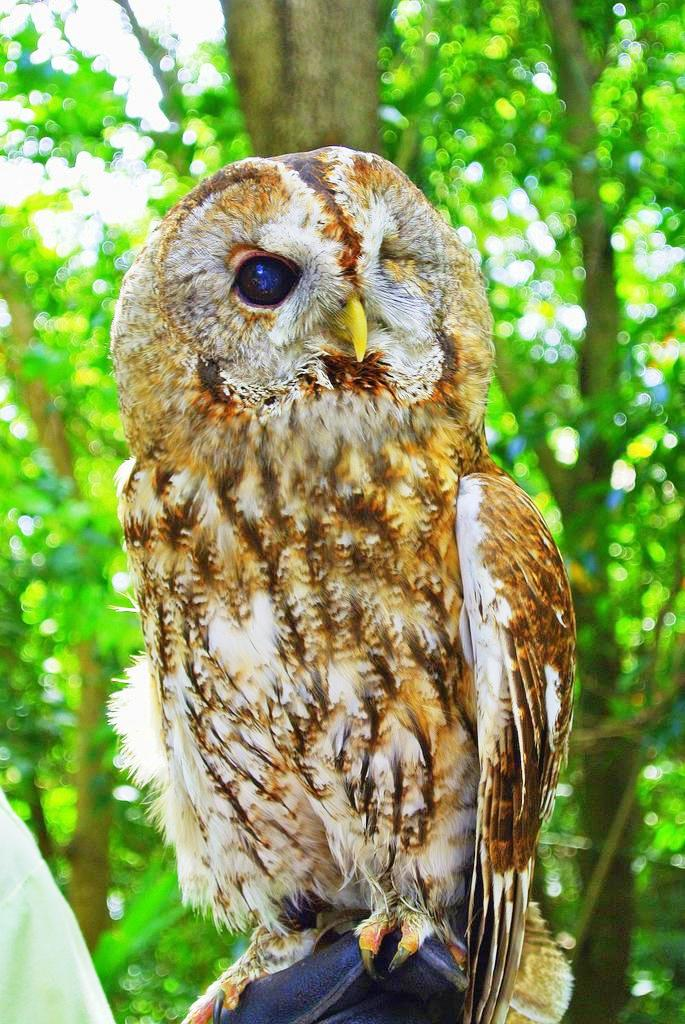Owl: (107, 142, 576, 1023)
